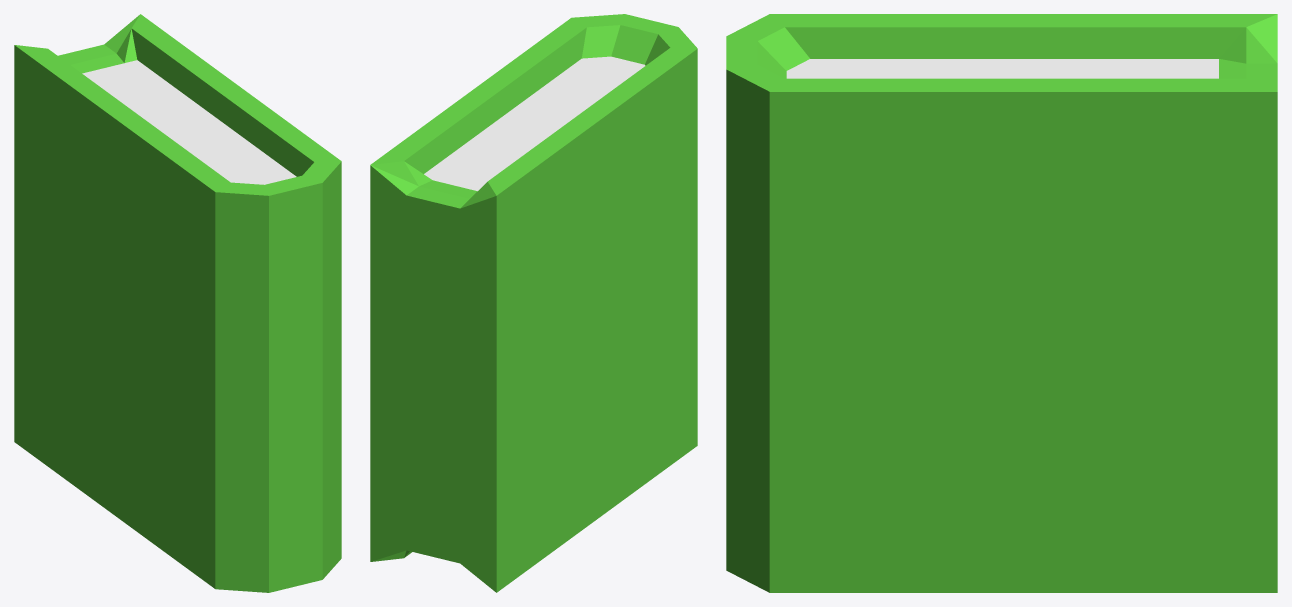
File: book1.fbx
3 views of the same model, side by side, from view 1: azimuth 30°, elevation 25°; view 2: azimuth 150°, elevation 25°; view 3: azimuth 270°, elevation 25° (orthographic). The views are drawn at different scales.
Visible parts, largest first — view 1: book1; view 2: book1; view 3: book1.
Boxes of the visible parts, x1,y1,x2,y2 form: book1: [14, 14, 341, 592]; book1: [370, 14, 697, 592]; book1: [726, 14, 1277, 592].
Bounding box in the file's own units: 6.74 × 20.24 × 20.18.
